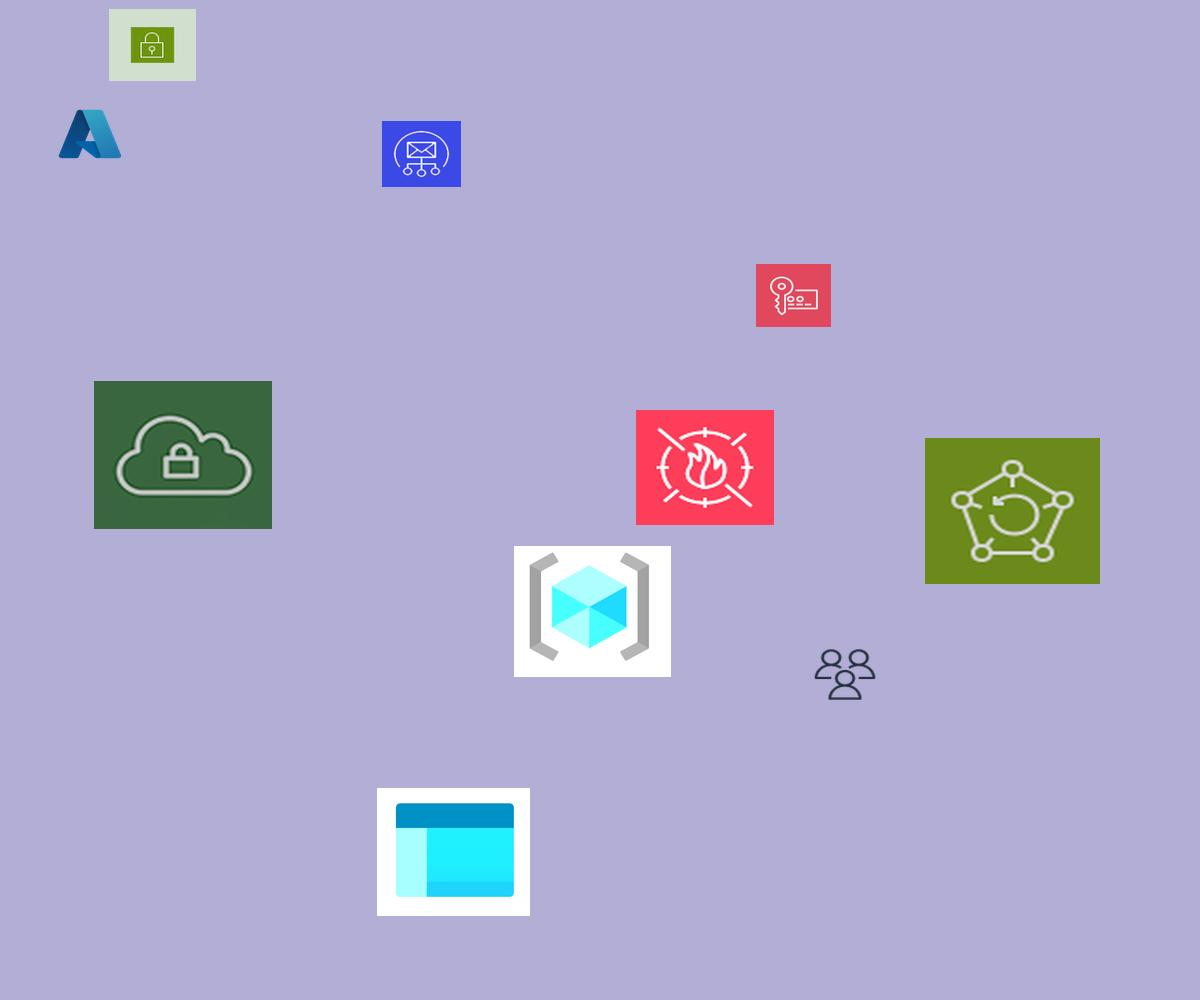AWS-Backup: (925, 438, 1100, 584)
AWS-Key-Management-Service: (756, 264, 831, 327)
AWS-Private_vpc: (94, 381, 272, 529)
AWS-Public-subnet: (109, 9, 196, 81)
AWS-Res_Users: (812, 647, 878, 702)
AWS-Simple-Email-Service: (382, 121, 461, 187)
AWS-WAF: (636, 410, 774, 525)
Azure_management-portal: (377, 788, 530, 916)
Azure_resource_group: (514, 546, 671, 677)
Azure_services: (56, 106, 124, 162)
